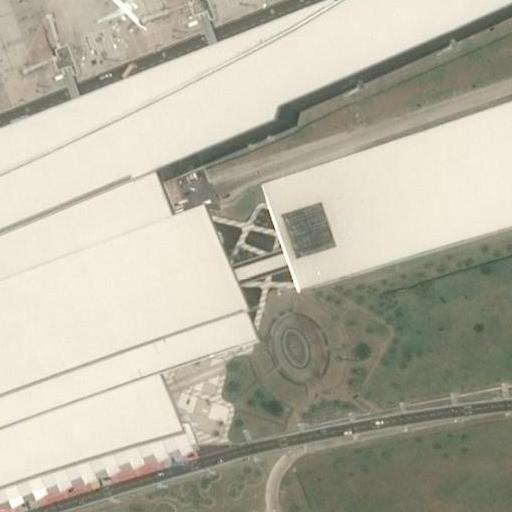Aircraft: (86, 0, 151, 34), (89, 0, 150, 33)
